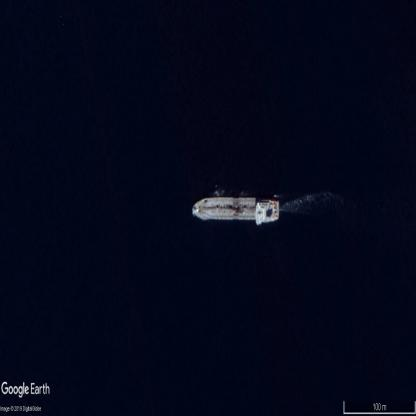ship: (192, 196, 278, 224)
